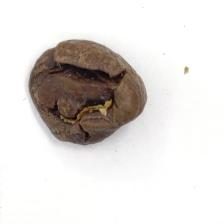NG: (28, 46, 130, 96), (31, 96, 129, 142)
